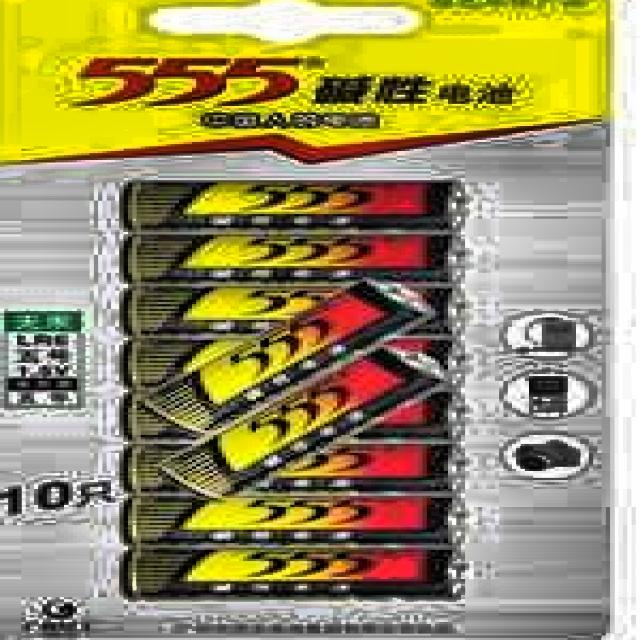Non-Valuable Waste - Batteries: (149, 280, 434, 432), (162, 348, 441, 496), (126, 547, 445, 597), (126, 182, 449, 228), (129, 235, 452, 281), (129, 497, 445, 543)
